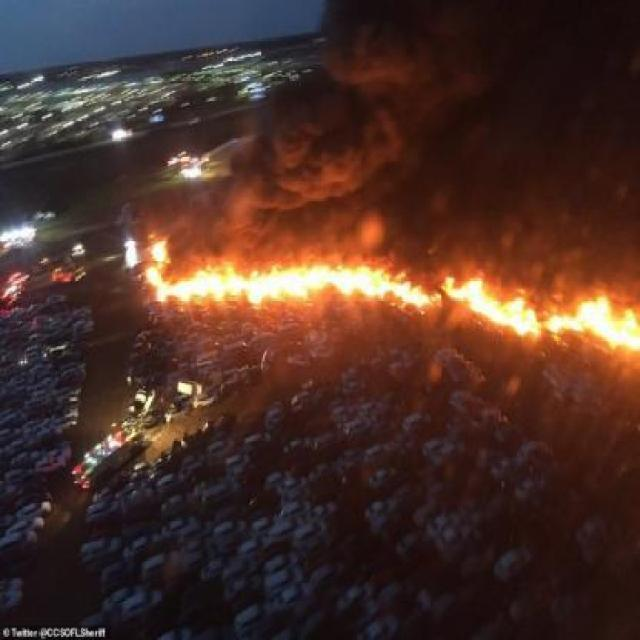Fire: (148, 241, 432, 314), (448, 272, 638, 350)
